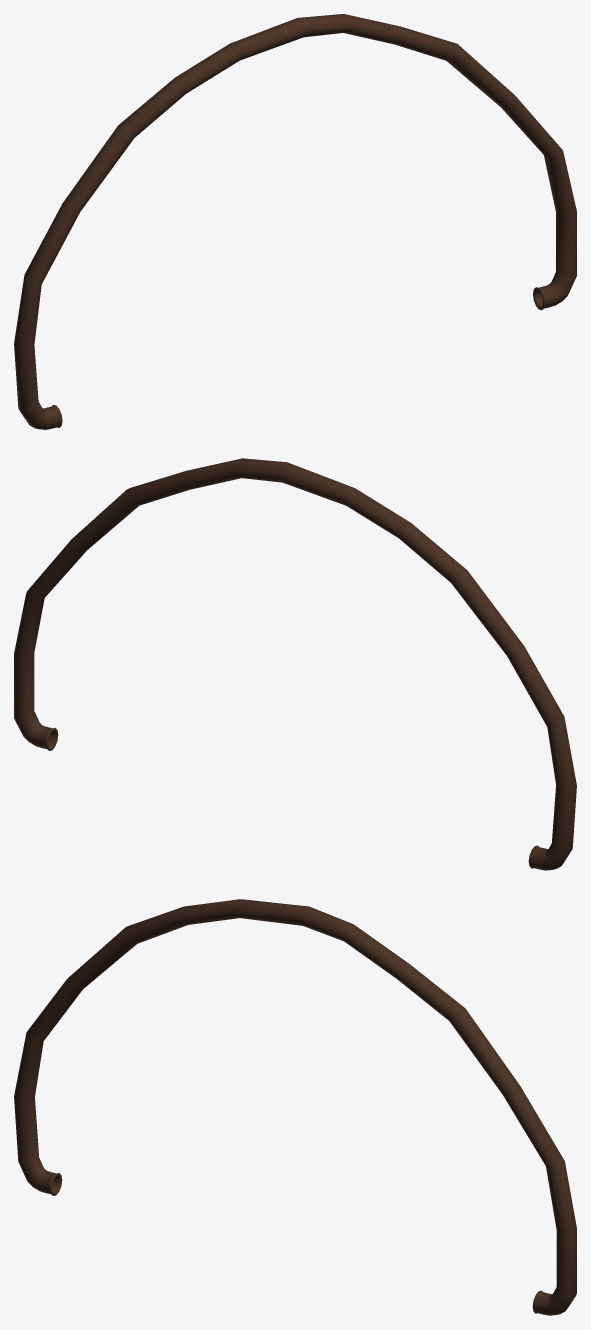
File: CupHandle.fbx
3 views of the same model, one above another, from view 1: azimuth 30°, elevation 25°; view 2: azimuth 150°, elevation 25°; view 3: azimuth 330°, elevation 25° (orthographic).
Parts seen in each view (by area): view 1: Handle; view 2: Handle; view 3: Handle.
Boxes of the visible parts, x1=… form: Handle: x1=14, y1=14, x2=576, y2=429; Handle: x1=14, y1=458, x2=576, y2=870; Handle: x1=14, y1=899, x2=576, y2=1315.
Size of the model in its own units: 30.07 by 17.78 by 1.33.
